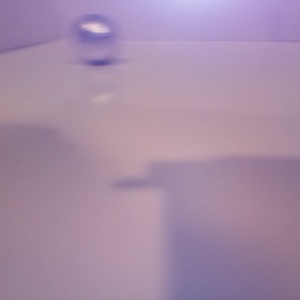alive_ball: (67, 14, 119, 62)
